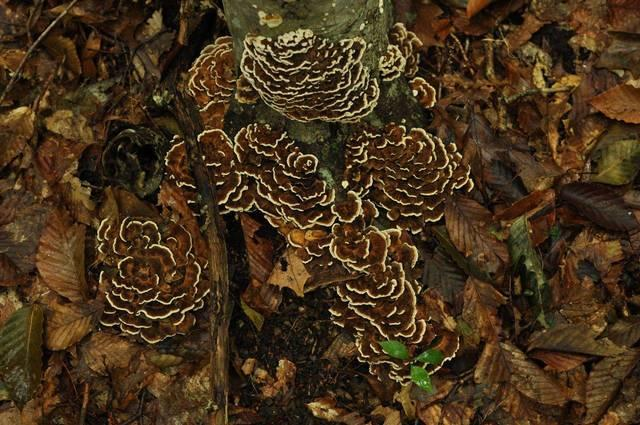poisonous_mushroom: (180, 125, 460, 374), (90, 210, 210, 344), (237, 27, 381, 124)
